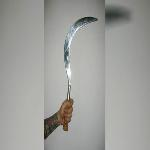Celurit: (59, 7, 95, 109)
